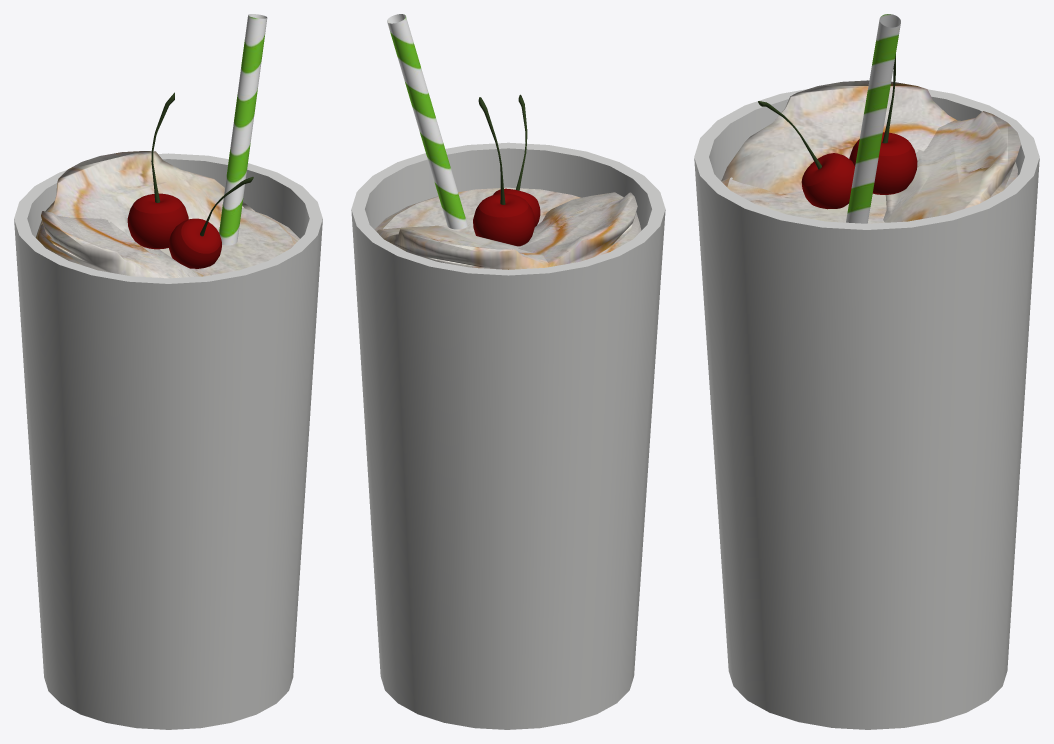
File: choco+drink.dae
3 renders of one model, left to right at view 1: azimuth 30°, elevation 25°; view 2: azimuth 150°, elevation 25°; view 3: azimuth 270°, elevation 25°, orthographic. The views are drawn at different scales.
Parts seen in each view (by area): view 1: group_3 (×2), group_1, group_2, Componente_12 (×2), group_0, SketchUp; view 2: group_3 (×2), group_2, group_0, group_1, SketchUp, Componente_12; view 3: group_3 (×2), group_2, group_1, group_0, Componente_12 (×2), SketchUp.
Boxes of the visible parts, box(x1,y1,x2,y2) form: group_3 (×2): box(14, 153, 322, 729); group_1: box(35, 151, 254, 239); group_2: box(37, 211, 203, 278); Componente_12 (×2): box(127, 193, 221, 268); group_0: box(219, 14, 267, 245); SketchUp: box(159, 207, 299, 276); group_3 (×2): box(351, 142, 665, 729); group_2: box(518, 192, 641, 267); group_0: box(387, 14, 467, 229); group_1: box(376, 225, 548, 269); SketchUp: box(374, 187, 580, 235); Componente_12: box(473, 193, 535, 246); group_3 (×2): box(694, 89, 1039, 729); group_2: box(721, 80, 956, 193); group_1: box(883, 111, 1020, 222); group_0: box(846, 14, 900, 223); Componente_12 (×2): box(801, 132, 917, 209); SketchUp: box(721, 177, 886, 223).
Bounding box in the file's own units: 3.35 × 3.35 × 7.57.
